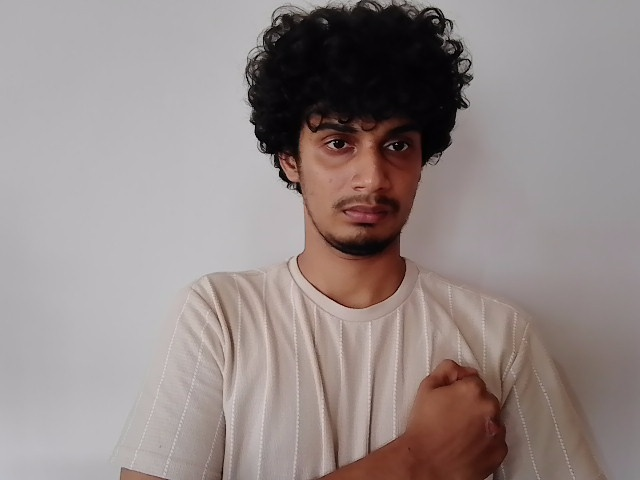sorry: (355, 261, 595, 480)
